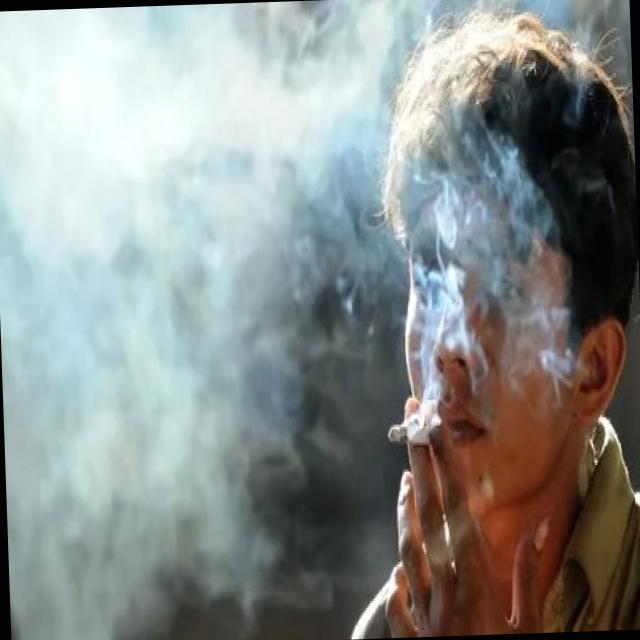cigarette: (380, 406, 440, 448)
